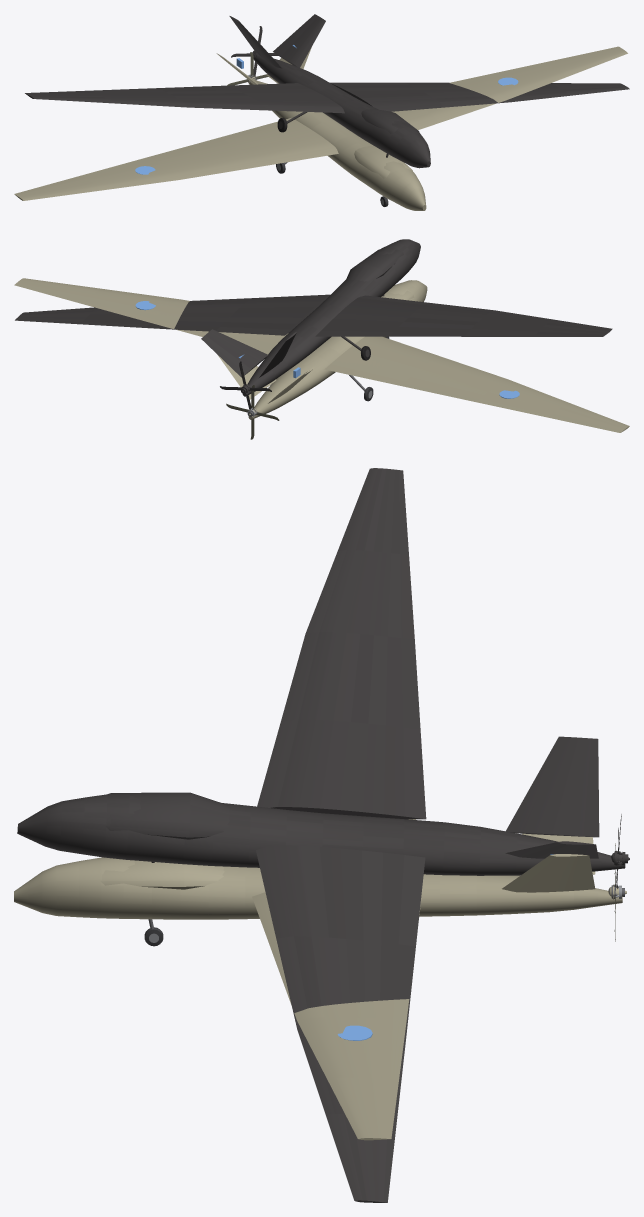
File: drone__muav_kus_fs_production.glb
3 renders of one model, top to bottom at view 1: azimuth 30°, elevation 25°; view 2: azimuth 150°, elevation 25°; view 3: azimuth 270°, elevation 25°, orthographic. The views are drawn at different scales.
Parts seen in each view (by area): view 1: Fuselage_Mesh, Wreck; view 2: Wreck, Fuselage_Mesh, Propeller_Mesh; view 3: Wreck, Fuselage_Mesh.
Boxes of the visible parts, <box> form: Fuselage_Mesh: <box>14,45,627,210</box>; Wreck: <box>25,14,629,168</box>; Wreck: <box>15,239,612,409</box>; Fuselage_Mesh: <box>14,278,629,432</box>; Propeller_Mesh: <box>226,385,279,439</box>; Wreck: <box>17,468,629,1202</box>; Fuselage_Mesh: <box>14,819,622,1140</box>.
Size of what is drawn, in the model's own units: 26.03 by 5.47 by 13.15.
